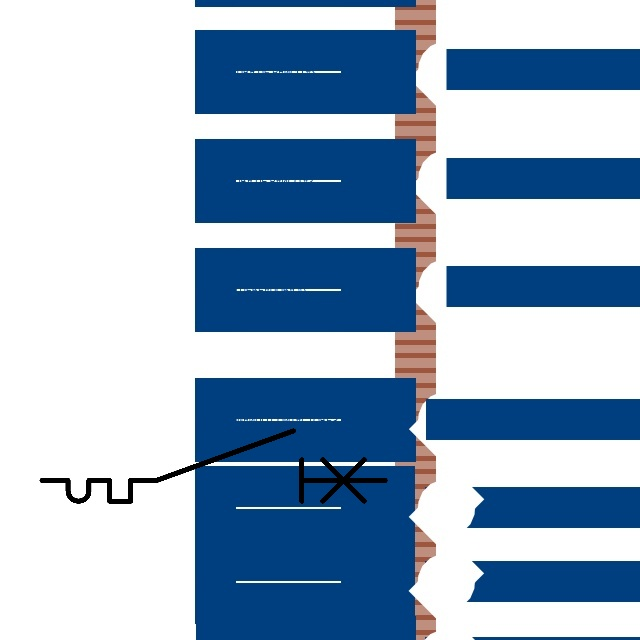interruptor_termomagnetico: (33, 422, 394, 510)
